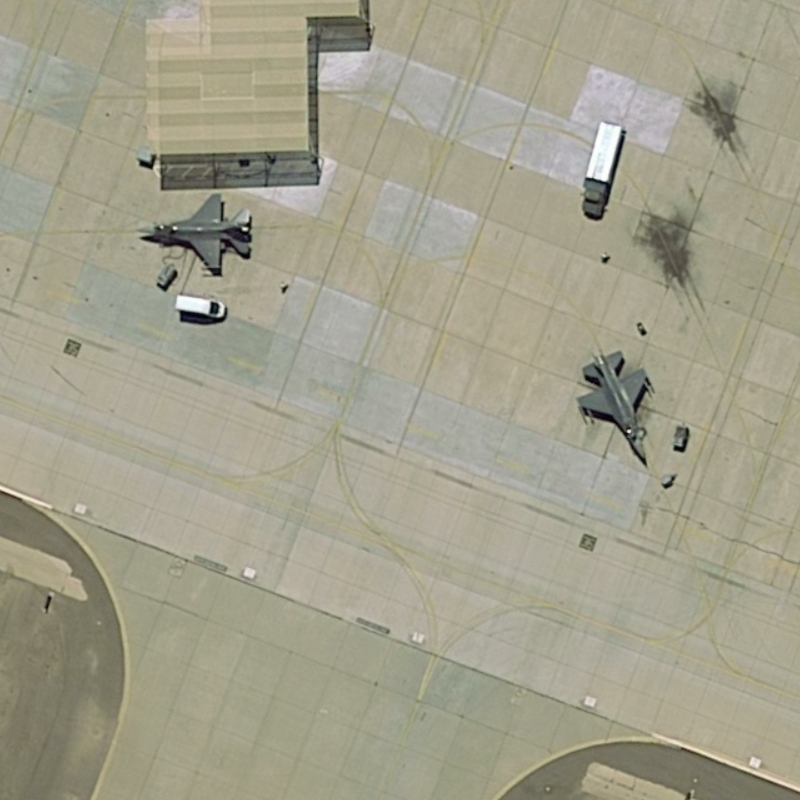A5: (123, 184, 261, 278), (570, 347, 665, 470)
